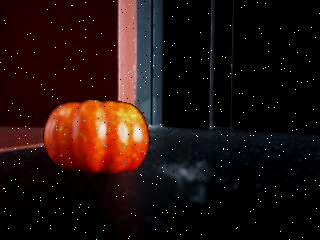Pumpkin: (44, 99, 149, 174)
